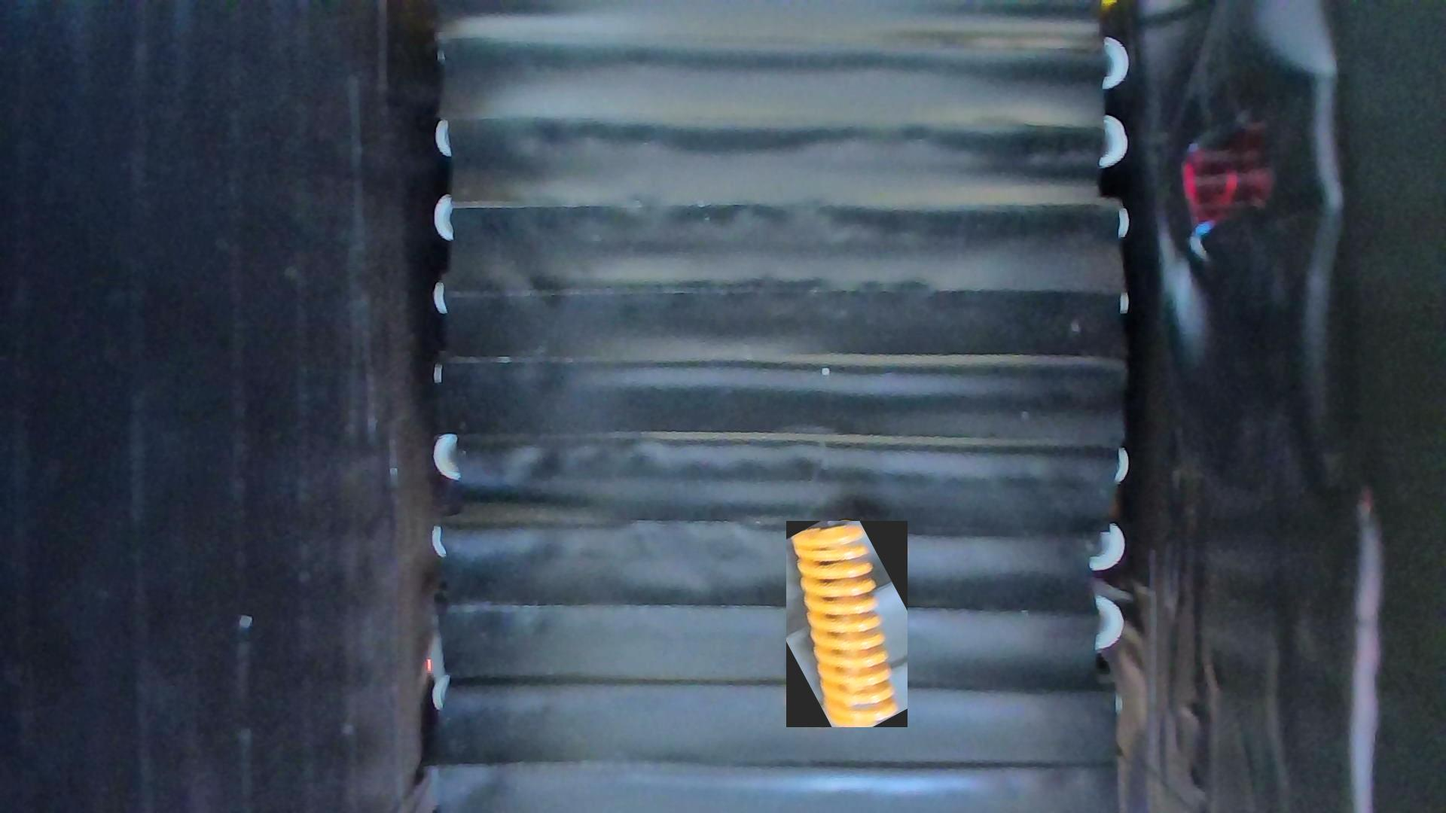spring: (786, 521, 907, 727)
